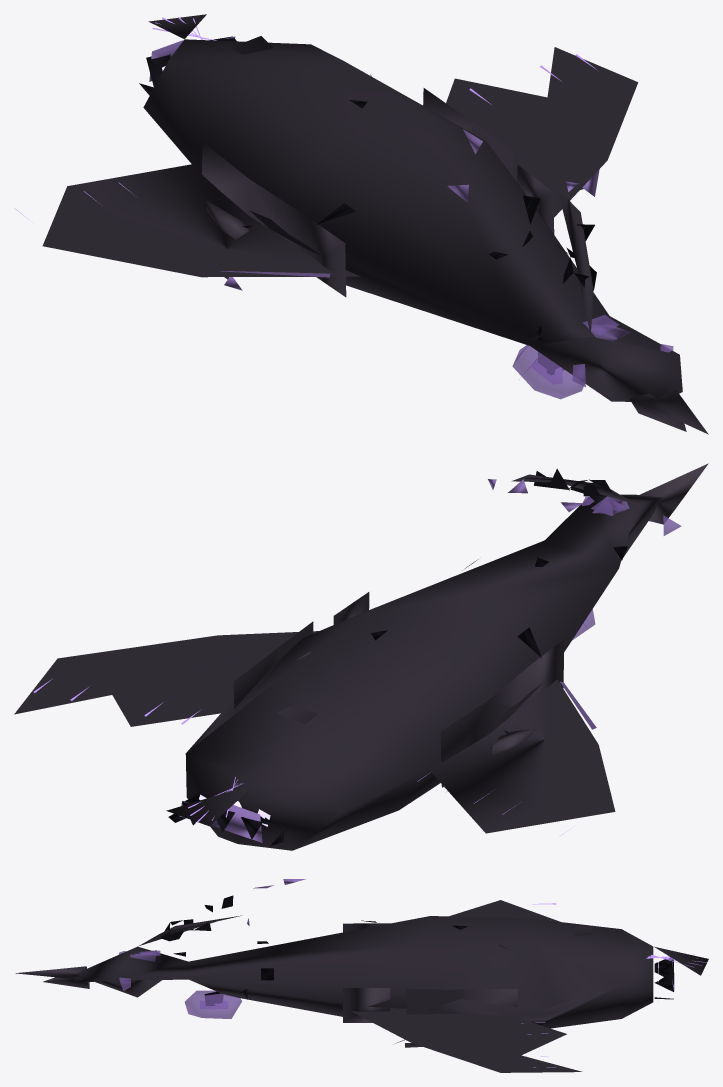
Rendered from choral-piesniarze-coalition-31-lod2.glb.
3 views of the same model, one above another, from view 1: azimuth 30°, elevation 25°; view 2: azimuth 150°, elevation 25°; view 3: azimuth 270°, elevation 25° (orthographic). The views are drawn at different scales.
Bounding box in the file's own units: 58.29 × 20.01 × 92.71.
